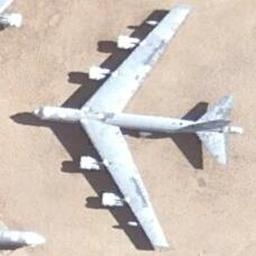Airplane: (34, 1, 243, 247)
